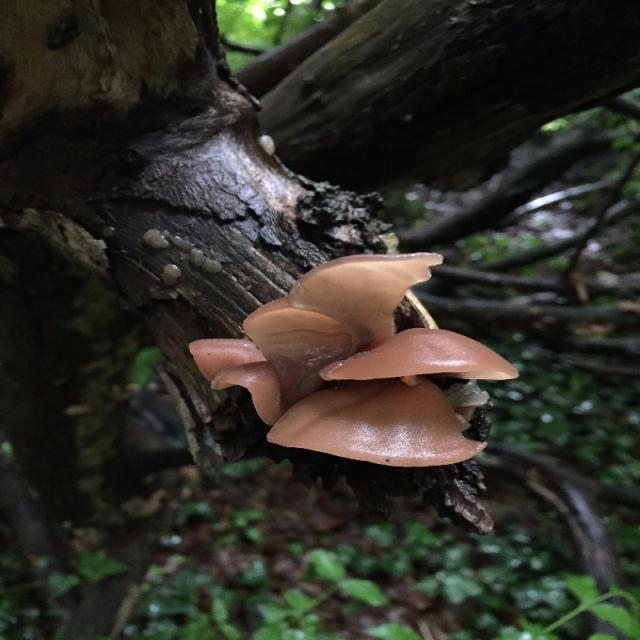Auricularia auricula: (184, 253, 517, 473)
